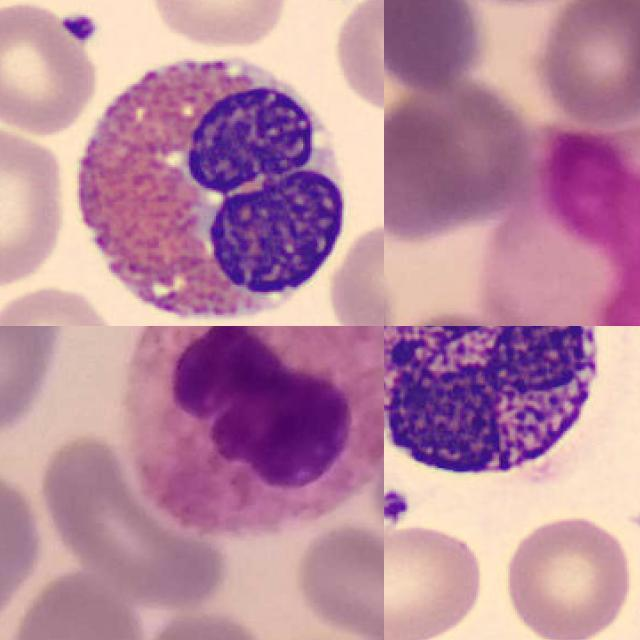Basophil: (384, 326, 616, 501)
Eosinophil: (54, 36, 363, 326)
Monocyte: (492, 121, 640, 326)
Neutrophil: (123, 326, 384, 540)
Platelets: (56, 8, 104, 45), (384, 485, 410, 526)
RBC: (499, 510, 636, 640), (384, 510, 492, 640), (0, 0, 98, 138), (0, 122, 68, 290), (142, 0, 292, 50), (329, 0, 384, 116), (326, 218, 384, 326), (0, 281, 119, 326)
